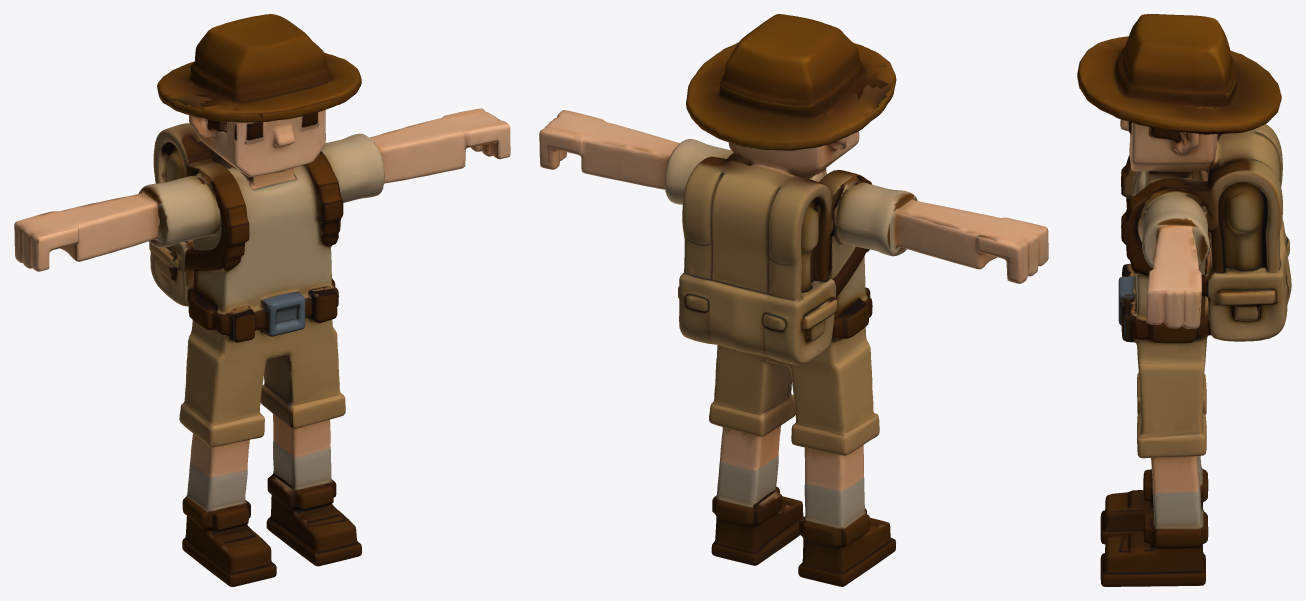
The model's file is explorer.glb.
3 renders of one model, left to right at view 1: azimuth 30°, elevation 25°; view 2: azimuth 150°, elevation 25°; view 3: azimuth 270°, elevation 25°, orthographic. The views are drawn at different scales.
Visible parts, largest first — view 1: texture_pbr_v128; view 2: texture_pbr_v128; view 3: texture_pbr_v128.
Part boxes in pixels (x1,y1,x2,y2): texture_pbr_v128: (14, 14, 510, 586); texture_pbr_v128: (539, 14, 1048, 586); texture_pbr_v128: (1077, 14, 1291, 586).
Bounding box in the file's own units: 1.08 × 1.12 × 0.414.
1 material, 1 textured.
